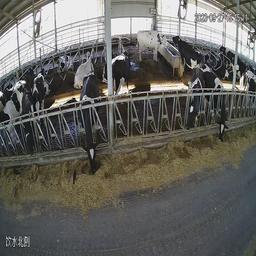cow: (78, 72, 104, 179), (183, 57, 206, 141), (205, 63, 227, 150), (23, 88, 41, 173), (132, 26, 168, 68), (173, 32, 205, 70), (221, 41, 246, 89), (109, 47, 130, 104), (31, 65, 51, 113), (73, 47, 93, 83), (53, 51, 71, 76)
